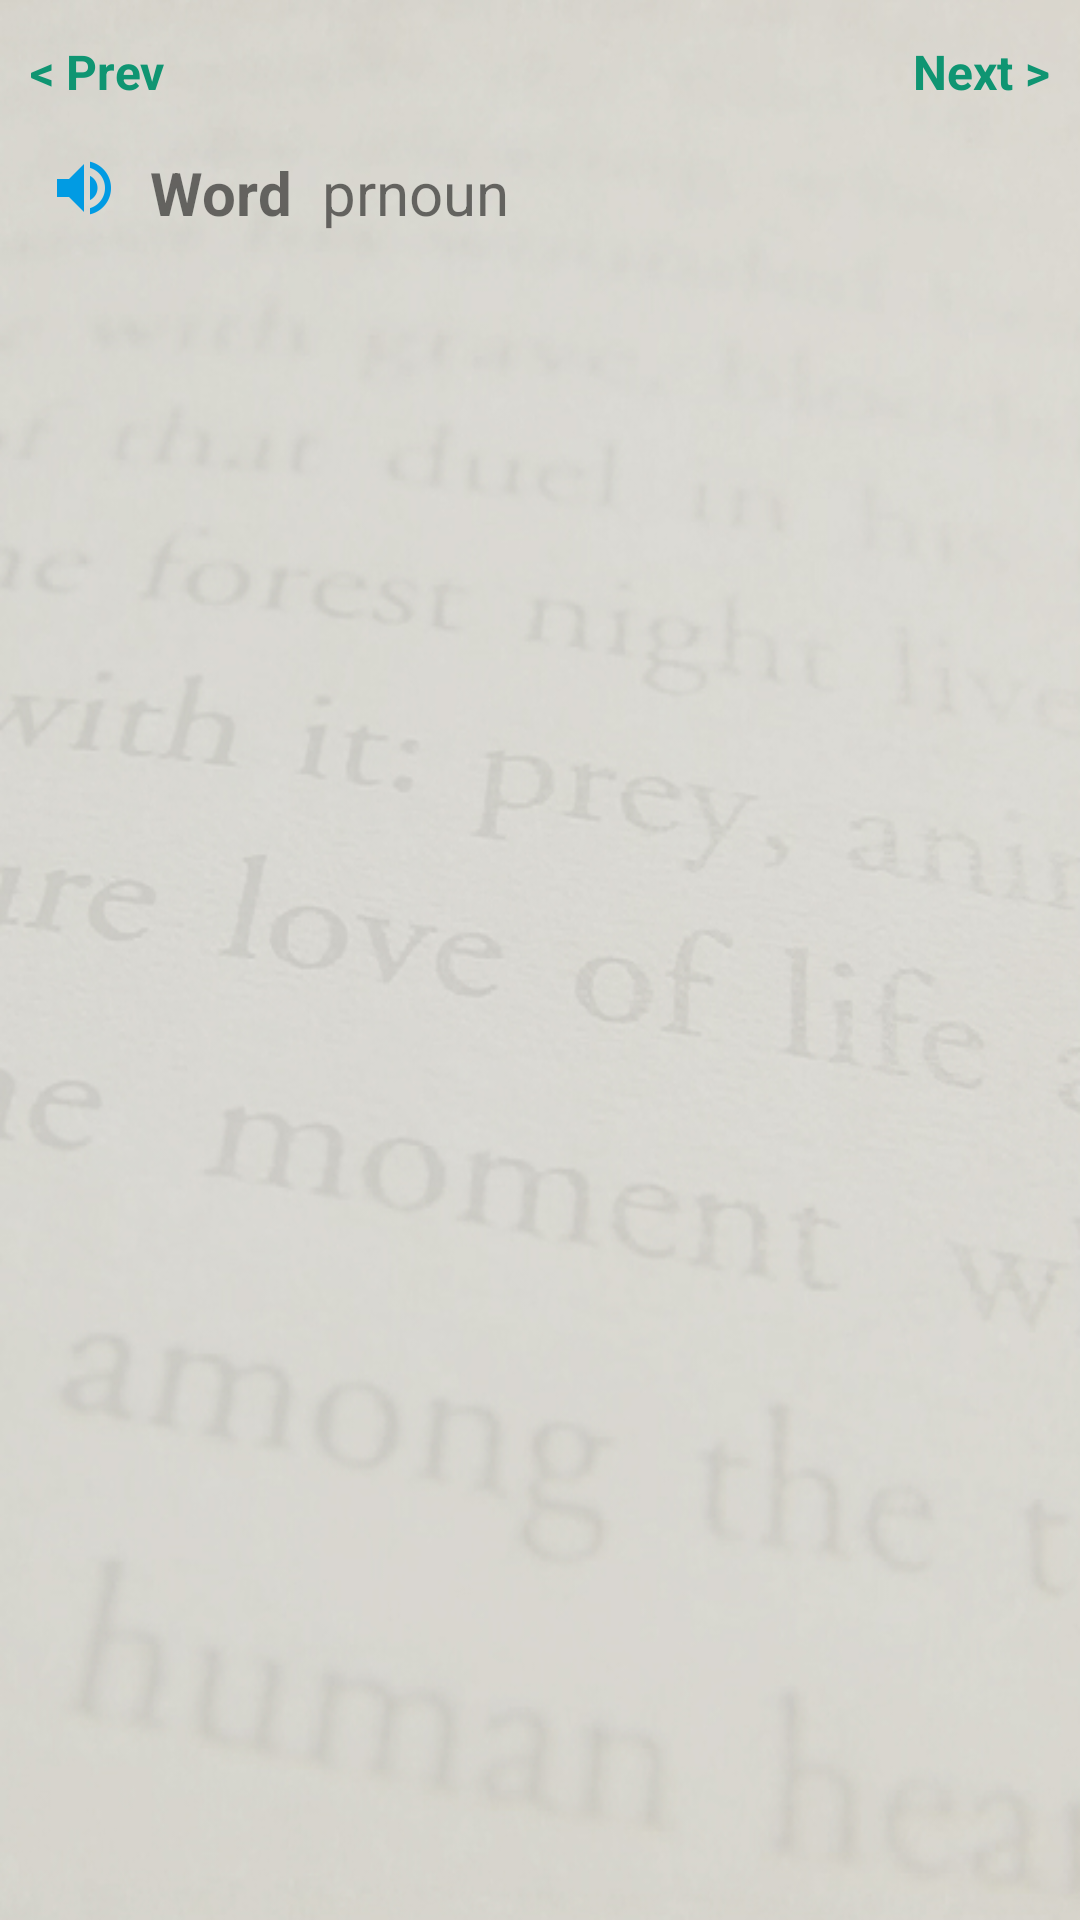

Where to tap for icons on this 1080×1920 app screen, as [x,y]:
audio: [84,188]
